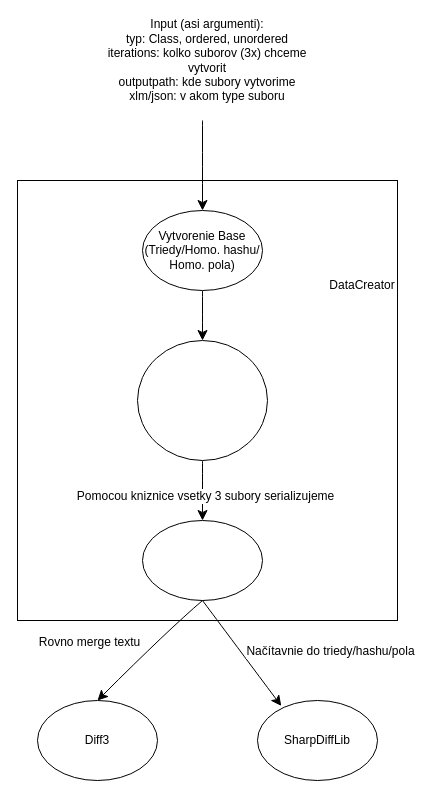
Image size: 435x798. Some labels were removed from this diagram. The shapes that lost their labels are listed below. From the top down, each one's box as (x1, y1, x2, y2) in pixels, then its label:
(136, 340, 268, 460): Zmutovanie na L a R (Bude treba iny algo. na mutovanie kazdej struktury)
(142, 520, 262, 600): Vytvorenie json/xml
